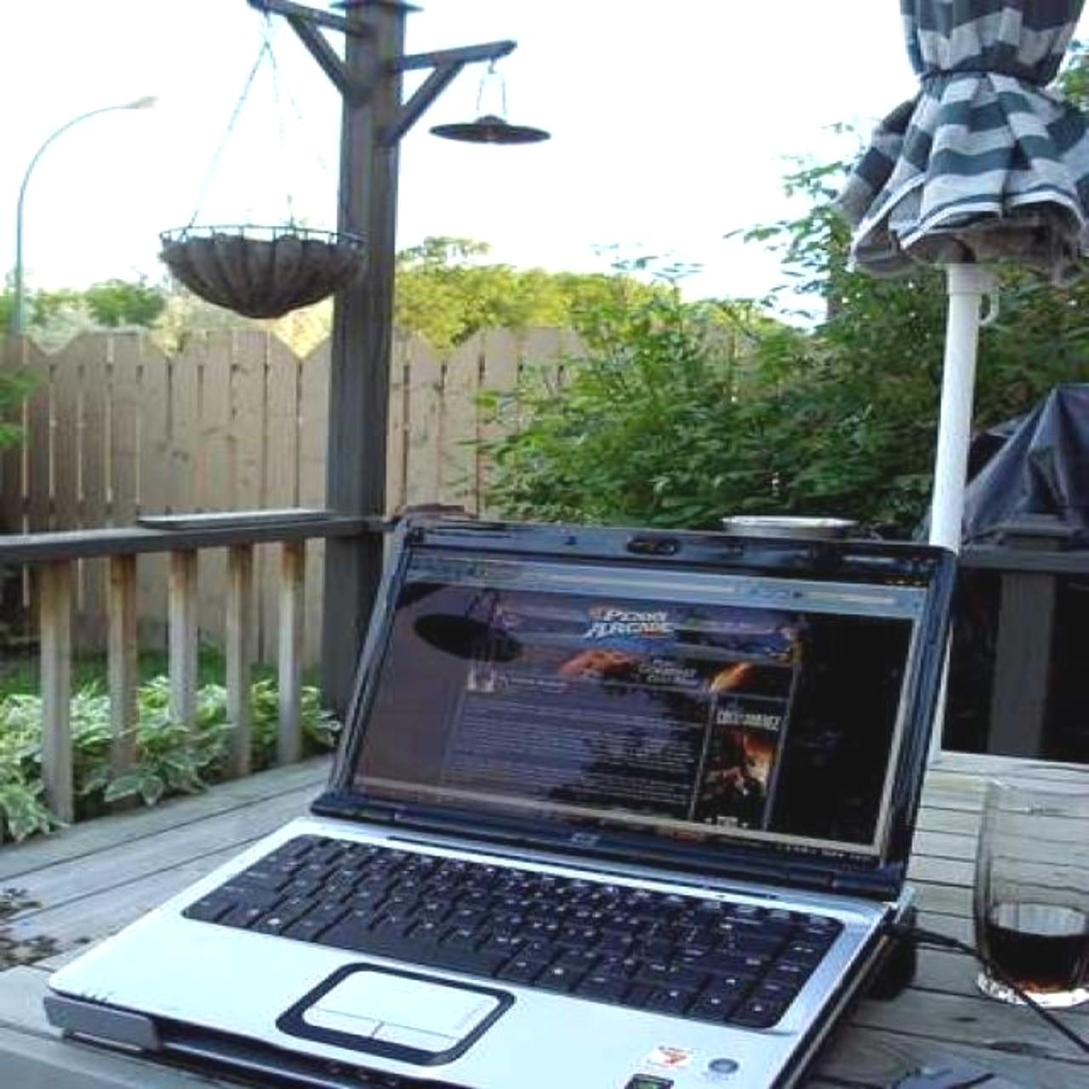laptop: (61, 497, 970, 1089)
